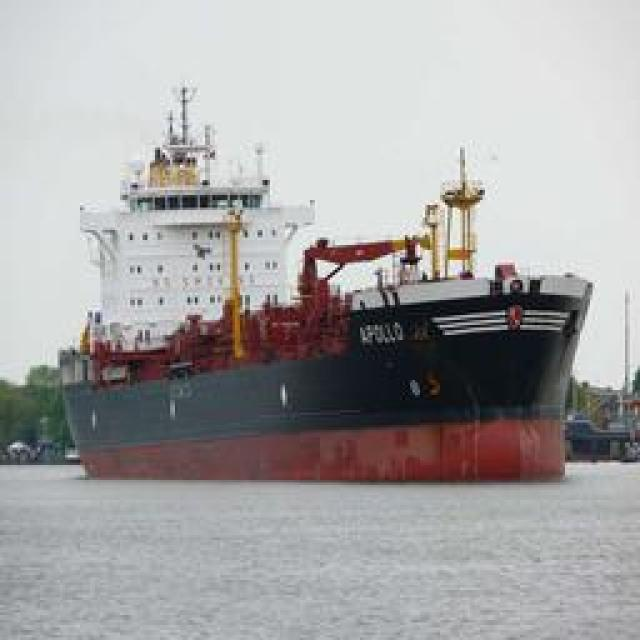ship2: (57, 87, 595, 486)
